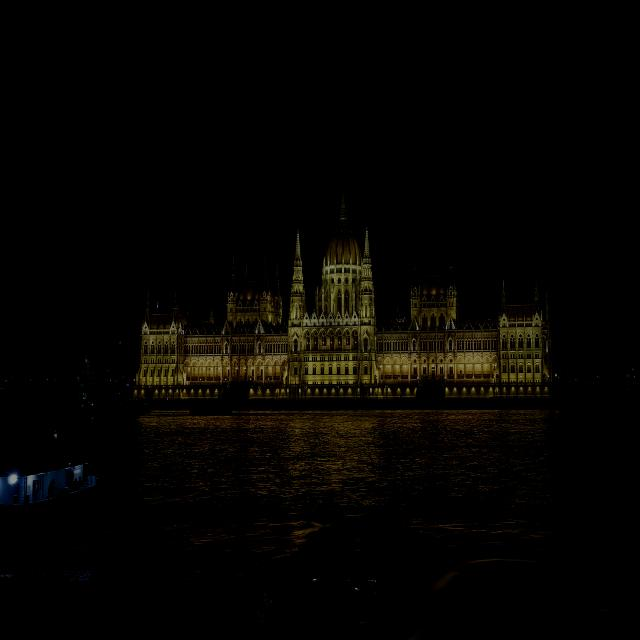Car: (340, 560, 622, 640), (243, 523, 391, 625)
